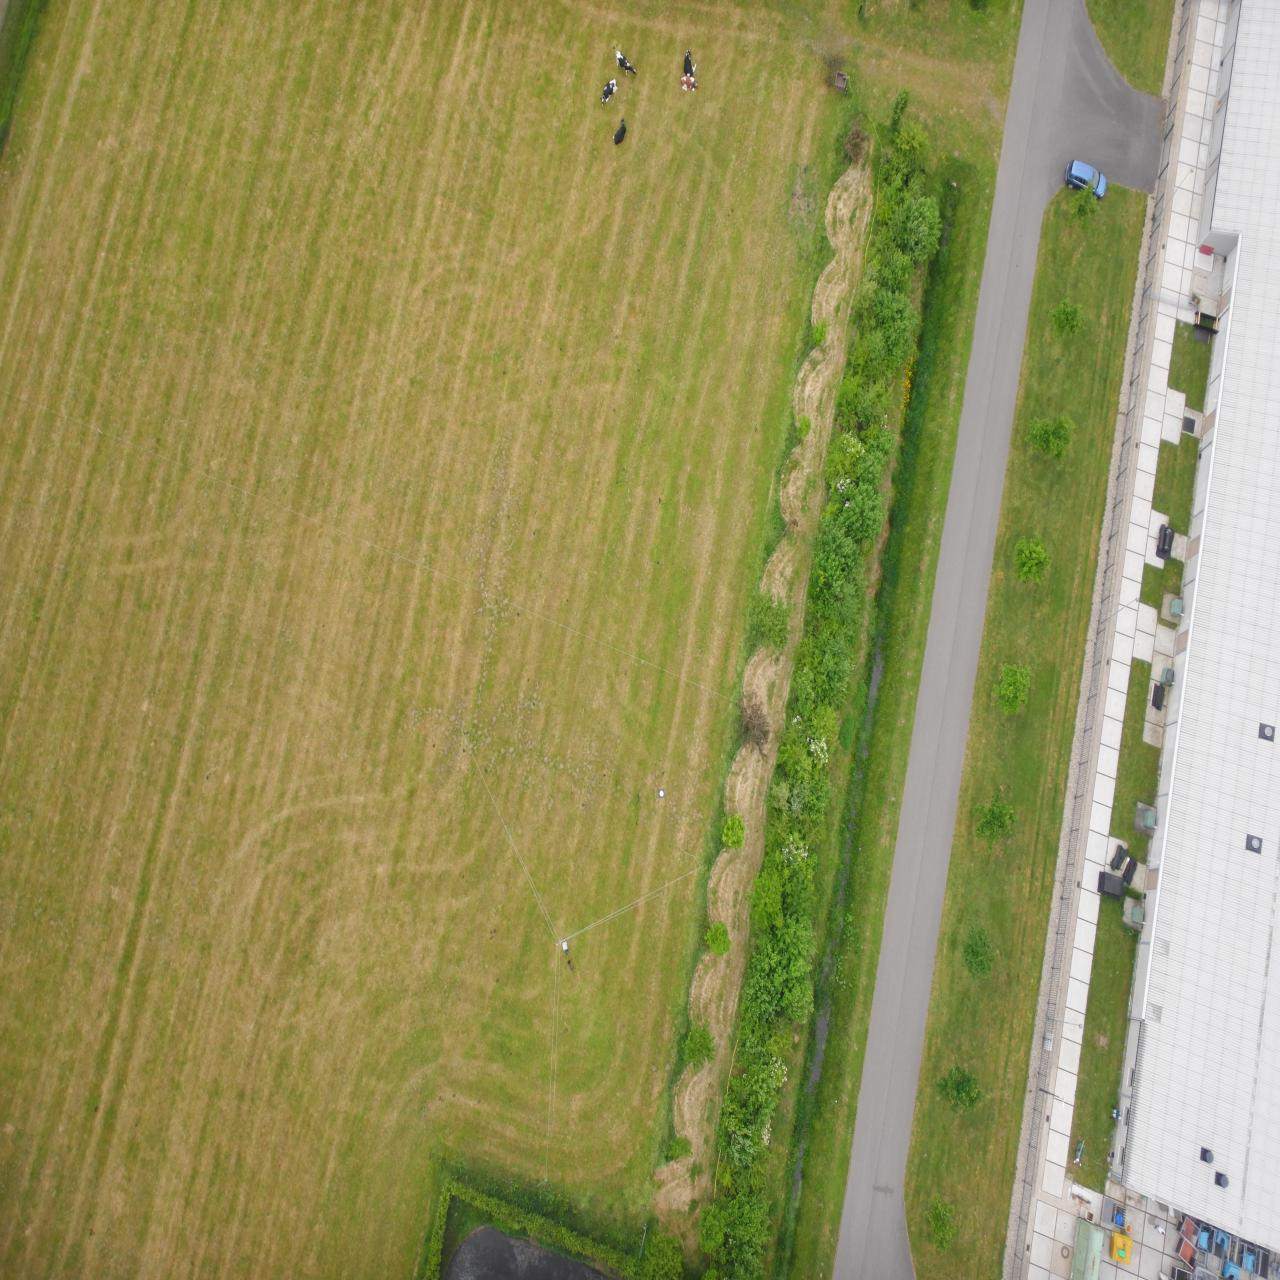cow: (644, 1205, 663, 1231), (662, 1173, 680, 1200), (583, 1203, 598, 1230), (654, 1135, 667, 1163), (581, 1189, 599, 1203)
